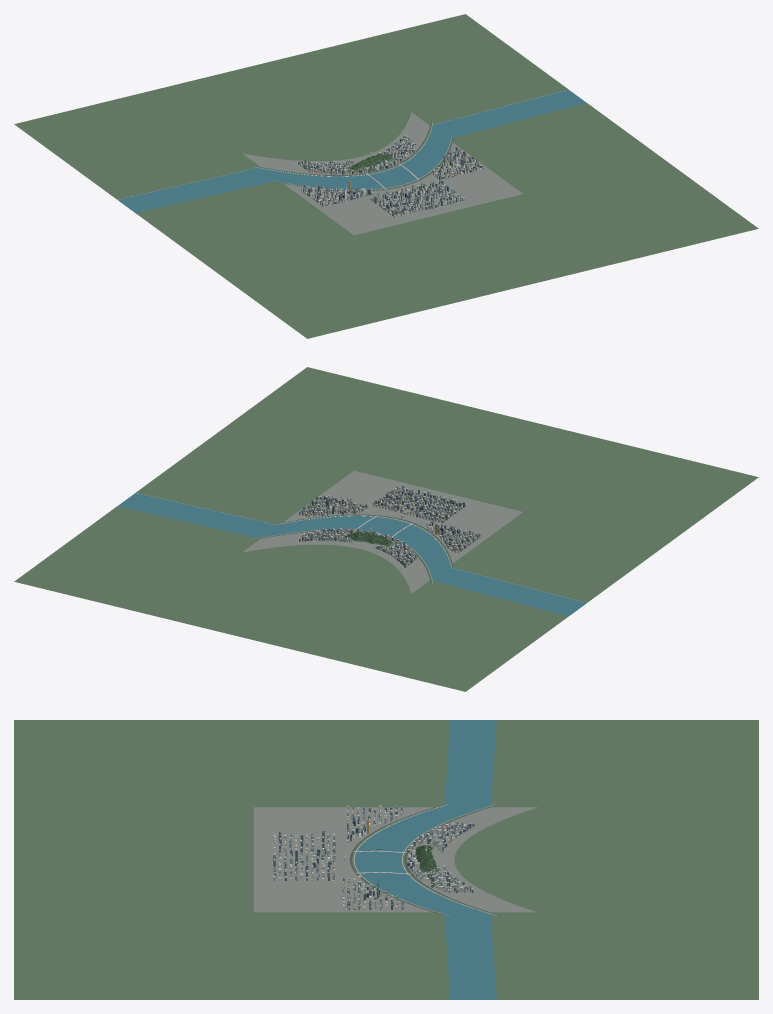
File: mobile-world.glb
3 views of the same model, one above another, from view 1: azimuth 30°, elevation 25°; view 2: azimuth 150°, elevation 25°; view 3: azimuth 270°, elevation 25° (orthographic). The views are drawn at different scales.
Parts seen in each view (by area): view 1: Context_SP_grass, Context_SP_water, Context_SP_urban_ground, Context_SP_city_ivory, Context_SP_city_cool, Context_SP_city_steel, Context_SP_city_warm, Context_SP_city_glass, Context_SP_city_white; view 2: Context_SP_grass, Context_SP_water, Context_SP_urban_ground, Context_SP_city_steel, Context_SP_city_cool, Context_SP_city_warm, Context_SP_city_ivory, Context_SP_city_glass, Context_SP_city_white; view 3: Context_SP_grass, Context_SP_urban_ground, Context_SP_water, Context_SP_city_steel, Context_SP_city_warm, Context_SP_city_cool, Context_SP_city_ivory, Context_SP_city_glass, Context_SP_city_white, Context_SP_asphalt.
Part boxes in pixels (x1=…): Context_SP_grass: x1=14, y1=14, x2=758, y2=338; Context_SP_water: x1=118, y1=89, x2=586, y2=212; Context_SP_urban_ground: x1=243, y1=112, x2=522, y2=235; Context_SP_city_ivory: x1=300, y1=135, x2=484, y2=217; Context_SP_city_cool: x1=301, y1=137, x2=478, y2=212; Context_SP_city_steel: x1=298, y1=136, x2=482, y2=215; Context_SP_city_warm: x1=303, y1=138, x2=480, y2=214; Context_SP_city_glass: x1=300, y1=137, x2=483, y2=216; Context_SP_city_white: x1=302, y1=135, x2=482, y2=213; Context_SP_grass: x1=14, y1=367, x2=758, y2=691; Context_SP_water: x1=117, y1=493, x2=586, y2=616; Context_SP_urban_ground: x1=242, y1=470, x2=522, y2=593; Context_SP_city_steel: x1=299, y1=489, x2=477, y2=567; Context_SP_city_cool: x1=299, y1=486, x2=478, y2=565; Context_SP_city_warm: x1=301, y1=490, x2=480, y2=564; Context_SP_city_ivory: x1=300, y1=487, x2=476, y2=566; Context_SP_city_glass: x1=299, y1=485, x2=478, y2=564; Context_SP_city_white: x1=299, y1=486, x2=477, y2=563; Context_SP_grass: x1=14, y1=720, x2=758, y2=999; Context_SP_urban_ground: x1=254, y1=807, x2=537, y2=912; Context_SP_water: x1=355, y1=720, x2=496, y2=999; Context_SP_city_steel: x1=273, y1=807, x2=474, y2=910; Context_SP_city_warm: x1=273, y1=805, x2=462, y2=910; Context_SP_city_cool: x1=273, y1=805, x2=465, y2=910; Context_SP_city_ivory: x1=273, y1=805, x2=469, y2=910; Context_SP_city_glass: x1=273, y1=806, x2=474, y2=909; Context_SP_city_white: x1=273, y1=807, x2=473, y2=909; Context_SP_asphalt: x1=350, y1=804, x2=501, y2=915.
Bounding box in the file's own units: 8000 × 280 × 9000.
